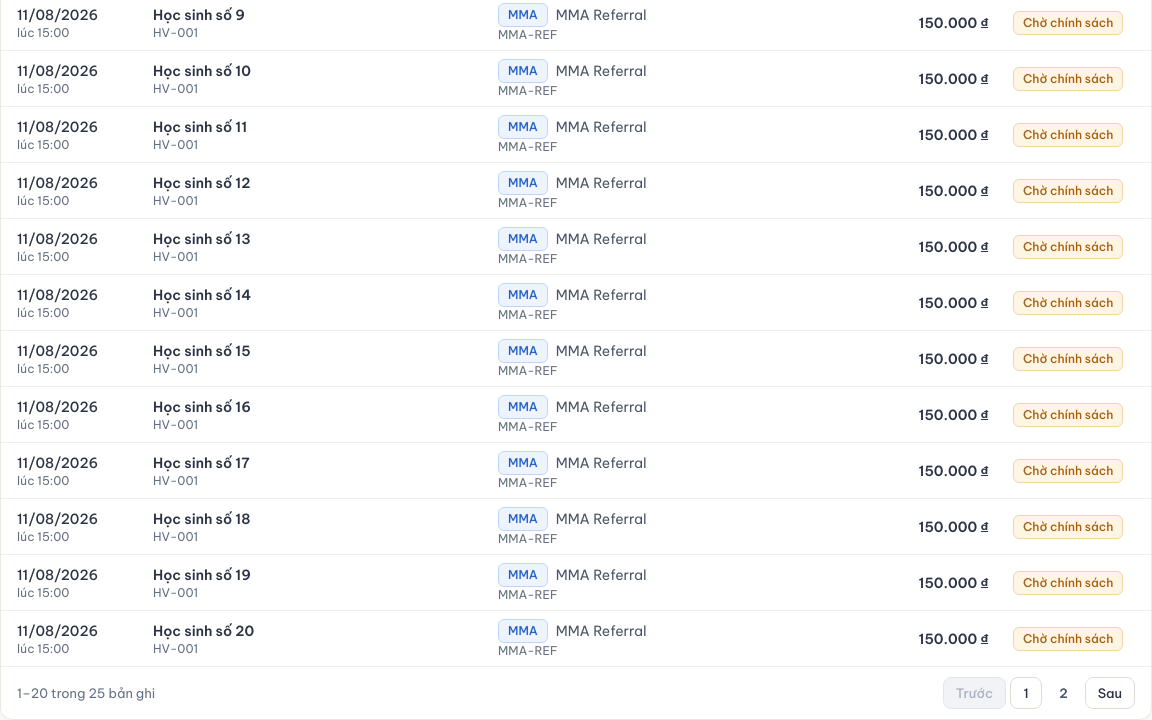
Commission eligible-revenue list (step 14b) › pages 20 rows at a time in both layouts
(page scrolled)
Click the button "Sau" at (1110, 693), box [1085,677,1135,709]
(page scrolled)
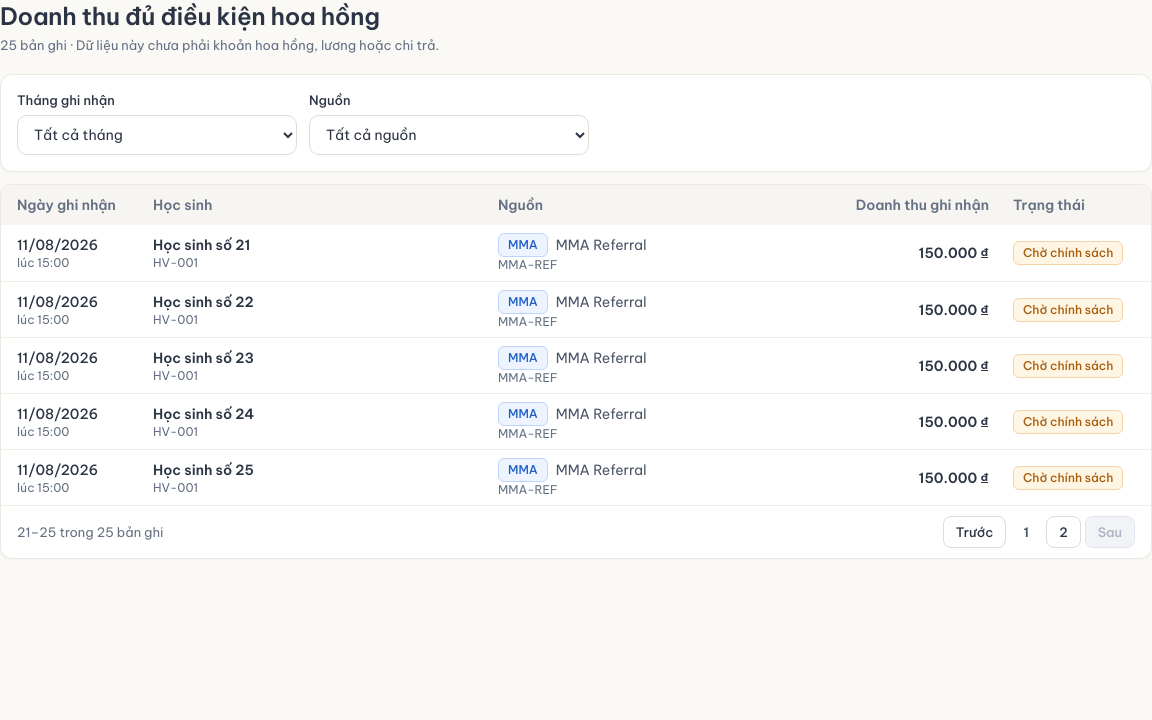
Check: the 2nd row shows "Học sinh số 21", box [153,236,250,254]
Note: Every row is from 08/2026, so the month keeps all 25, but a new filter starts at the top.
Select "Tháng 08/2026" in the dropdown labelled "Tháng ghi nhận" at (157, 135), box [17,115,297,155]
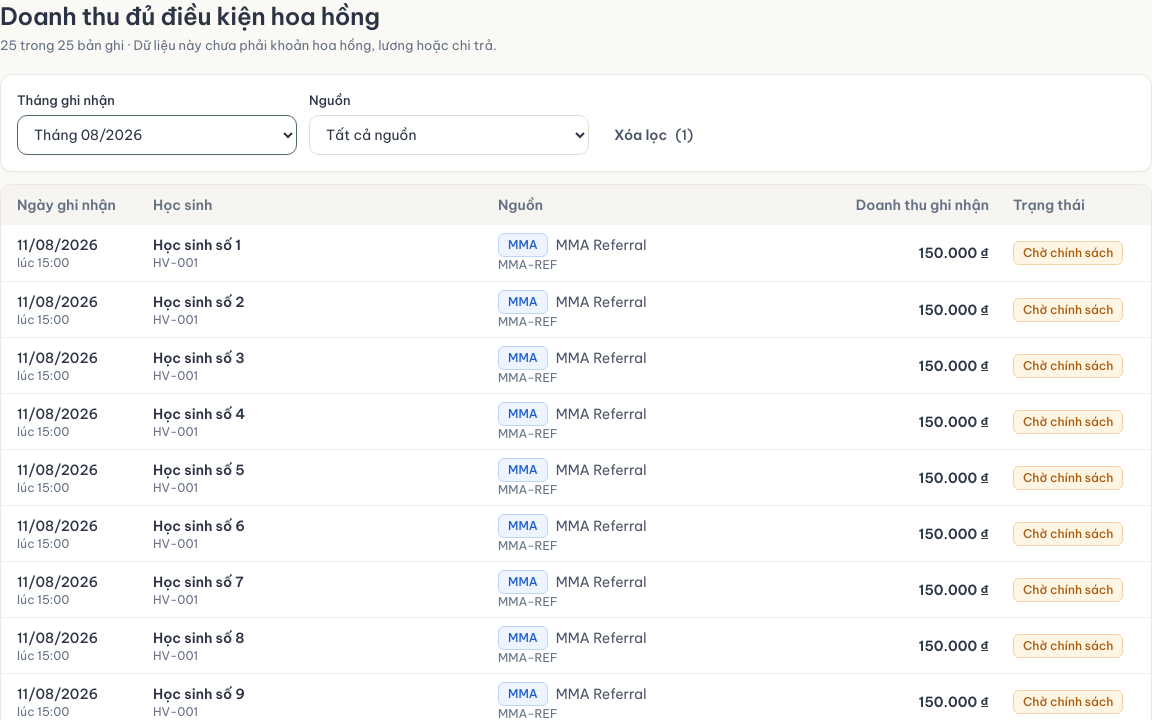
Check: the text "Học sinh số 1" is shown, box [153,236,241,254]
